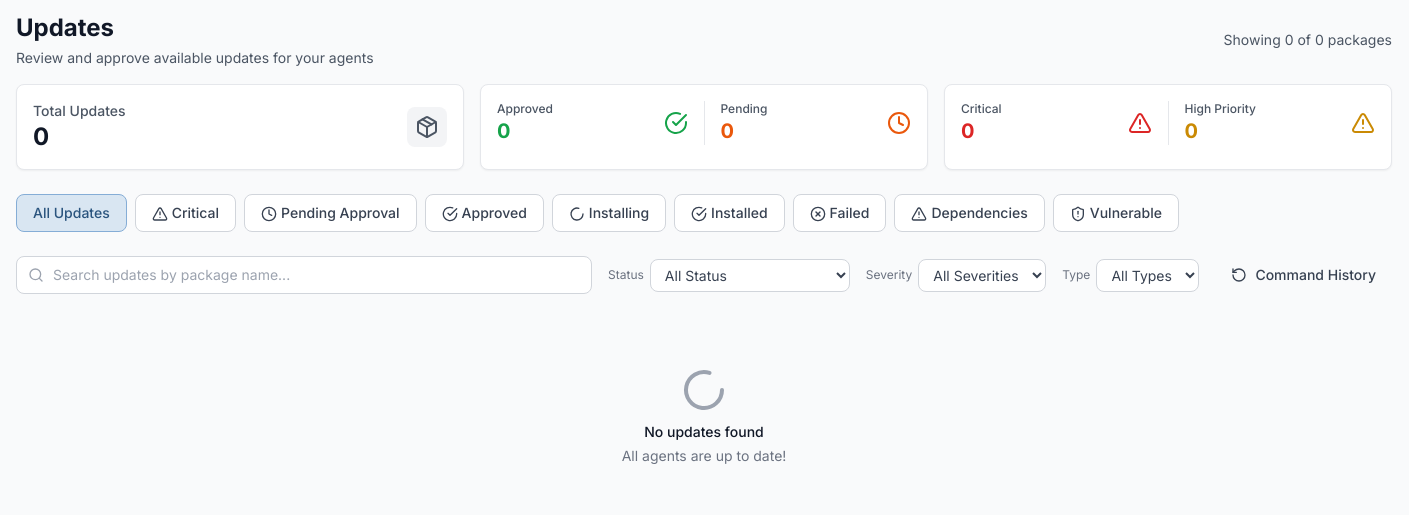
Updates page filter integration › quick filter "All Updates" clears all filters
// First set a filter via a quick filter
Click the button "Critical" at (185, 213), box [135,194,236,232]
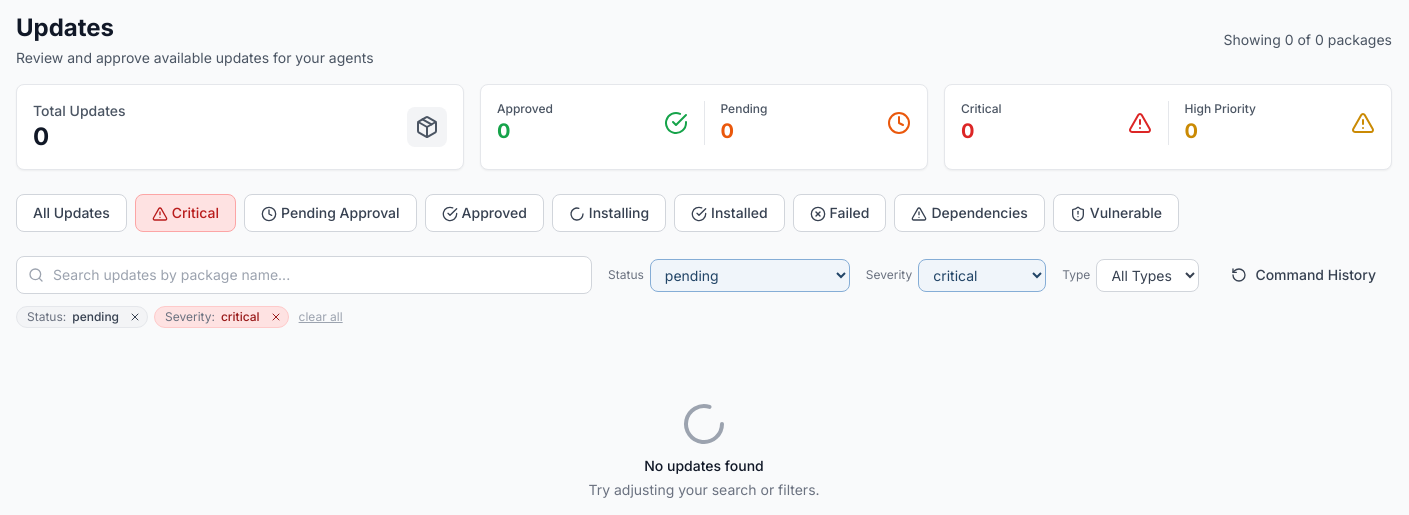
Expected: the text "Status:" is shown, [27,309,66,325]
Expected: the text "Severity:" is shown, [165,309,215,325]
// Then click "All Updates" to clear
Click the button "All Updates" at (71, 213), box [16,194,127,232]
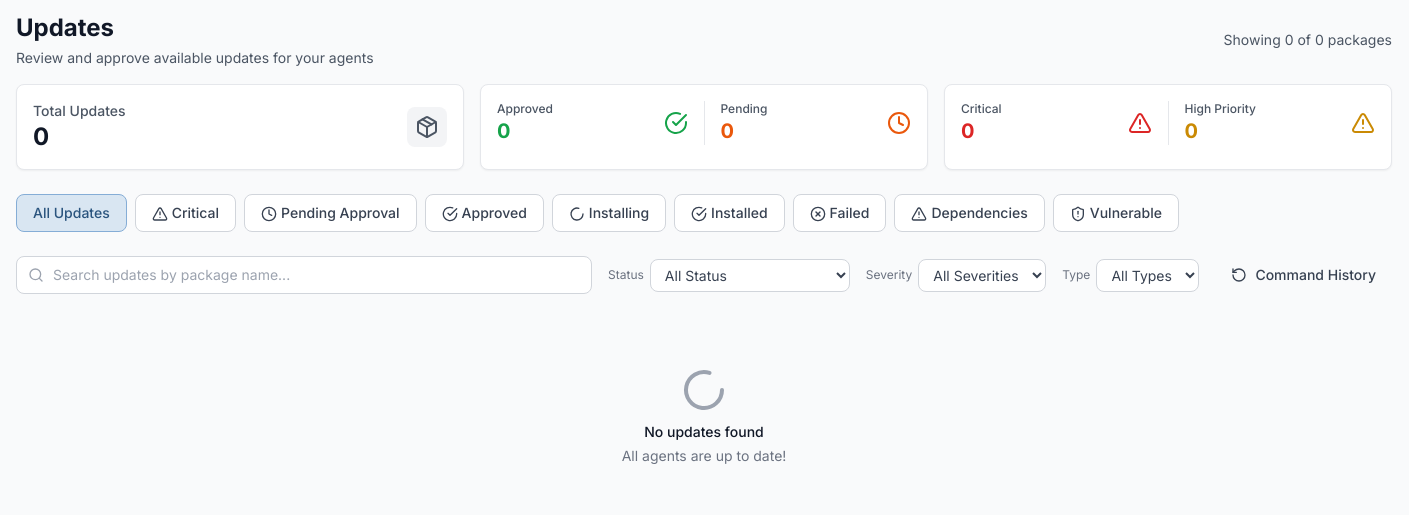
Expected: the text "Status:" is gone
Expected: the text "Severity:" is gone
Expected: the button "clear all" is gone
